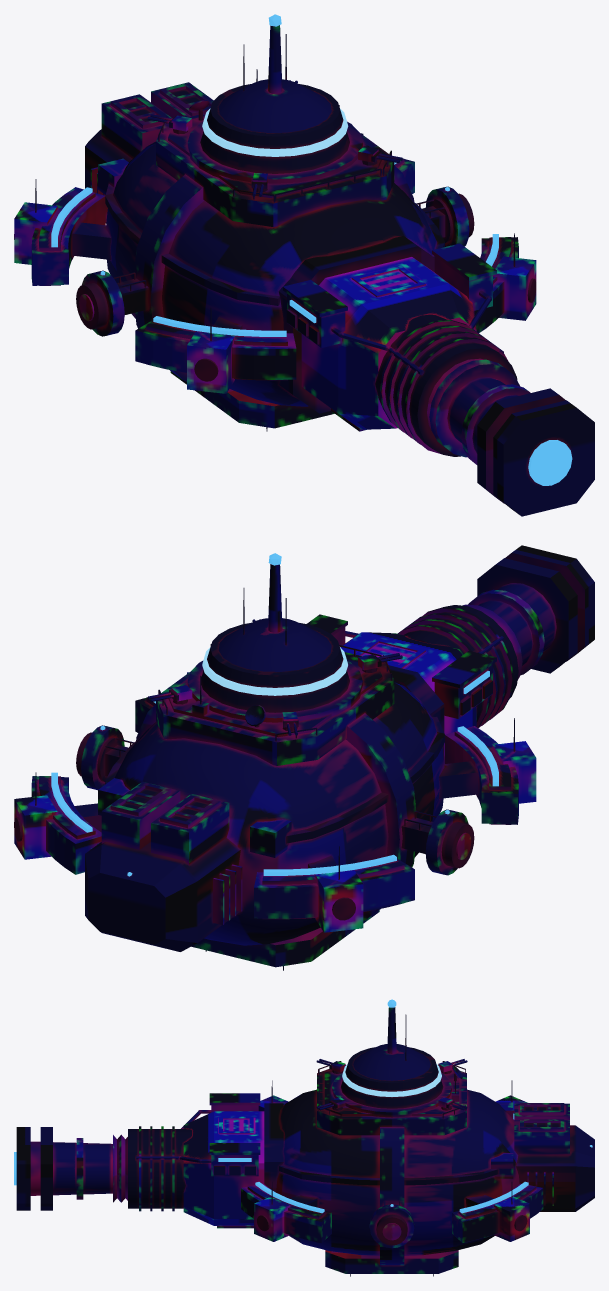
Rendered from warden.glb.
3 views of the same model, one above another, from view 1: azimuth 30°, elevation 25°; view 2: azimuth 150°, elevation 25°; view 3: azimuth 270°, elevation 25° (orthographic). The views are drawn at different scales.
Parts seen in each view (by area): view 1: warden; view 2: warden; view 3: warden.
Part boxes in pixels (x1,y1,x2,y2): warden: [14, 14, 594, 516]; warden: [14, 545, 594, 970]; warden: [14, 999, 594, 1276].
Bounding box in the file's own units: 5.44 × 5.25 × 10.45.
10 materials, 8 textured.
